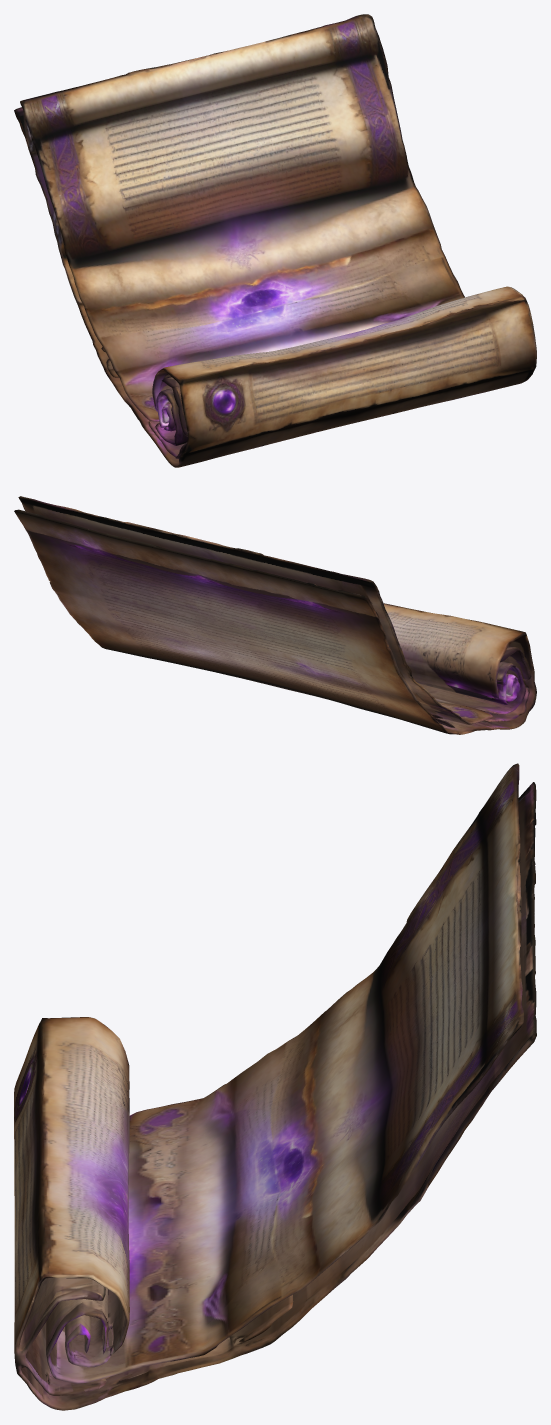
File: ancient_scroll_surro_0613134817_.fbx
3 views of the same model, one above another, from view 1: azimuth 30°, elevation 25°; view 2: azimuth 150°, elevation 25°; view 3: azimuth 270°, elevation 25° (orthographic). The views are drawn at different scales.
Visible parts, largest first — view 1: Mesh1_Mesh1.015; view 2: Mesh1_Mesh1.015; view 3: Mesh1_Mesh1.015.
Boxes of the visible parts, x1=… form: Mesh1_Mesh1.015: x1=14, y1=14, x2=536, y2=467; Mesh1_Mesh1.015: x1=14, y1=496, x2=536, y2=734; Mesh1_Mesh1.015: x1=14, y1=763, x2=536, y2=1410.
Bounding box in the file's own units: 203 × 141 × 170.
1 material, 1 textured.
